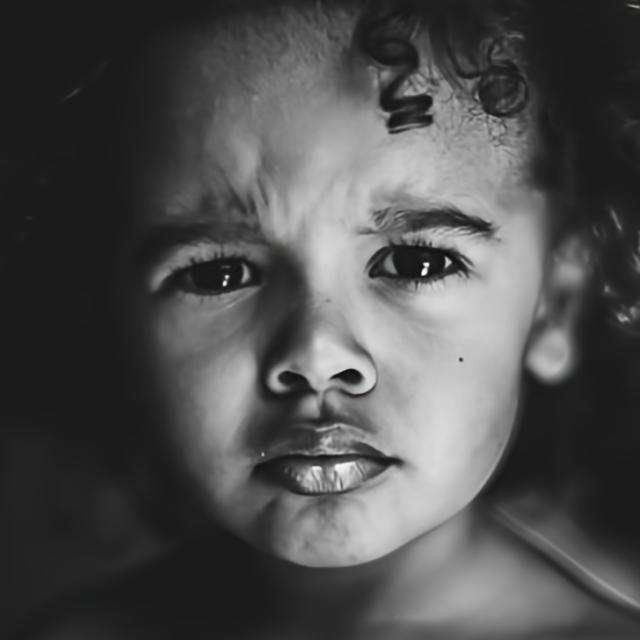neutral: (106, 0, 532, 569)
